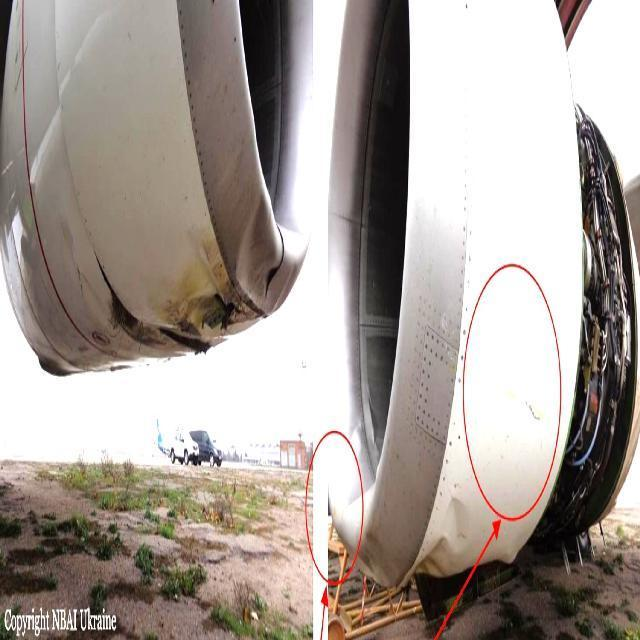crack: (523, 392, 542, 429)
dent: (404, 493, 471, 584)
